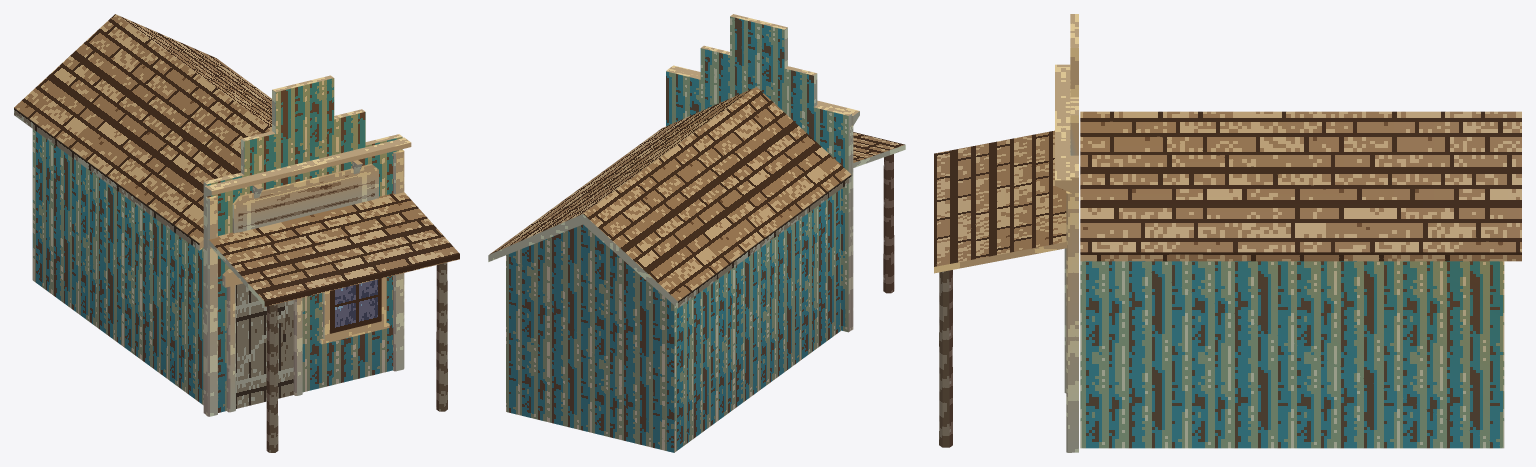
The model's file is wtown.facade__b_stepped.glb.
3 views of the same model, side by side, from view 1: azimuth 30°, elevation 25°; view 2: azimuth 150°, elevation 25°; view 3: azimuth 270°, elevation 25° (orthographic). The views are drawn at different scales.
Visible parts, largest first — view 1: kit_roof, kit_body, kit_porch, kit_front, kit_card_panes, kit_trim, kit_windows; view 2: kit_body, kit_roof, kit_front, kit_porch, kit_trim; view 3: kit_body, kit_roof, kit_porch, kit_trim, kit_front.
Boxes of the visible parts, box(x1,y1,x2,y2) form: kit_roof: box(14, 14, 271, 250); kit_body: box(32, 129, 203, 405); kit_porch: box(208, 192, 459, 452); kit_front: box(203, 75, 402, 414); kit_card_panes: box(236, 169, 381, 408); kit_trim: box(204, 137, 411, 416); kit_windows: box(320, 277, 389, 344); kit_body: box(506, 189, 840, 452); kit_roof: box(488, 87, 851, 308); kit_front: box(666, 14, 851, 332); kit_porch: box(853, 132, 905, 293); kit_trim: box(667, 65, 859, 330); kit_body: box(1080, 261, 1504, 448); kit_roof: box(1080, 111, 1521, 261); kit_porch: box(934, 130, 1067, 447); kit_trim: box(1055, 64, 1071, 452); kit_front: box(1070, 14, 1078, 452).
Size of the model in its own units: 3.94 by 5.7 by 8.32.
Materials: 7 (7 with a texture image).
